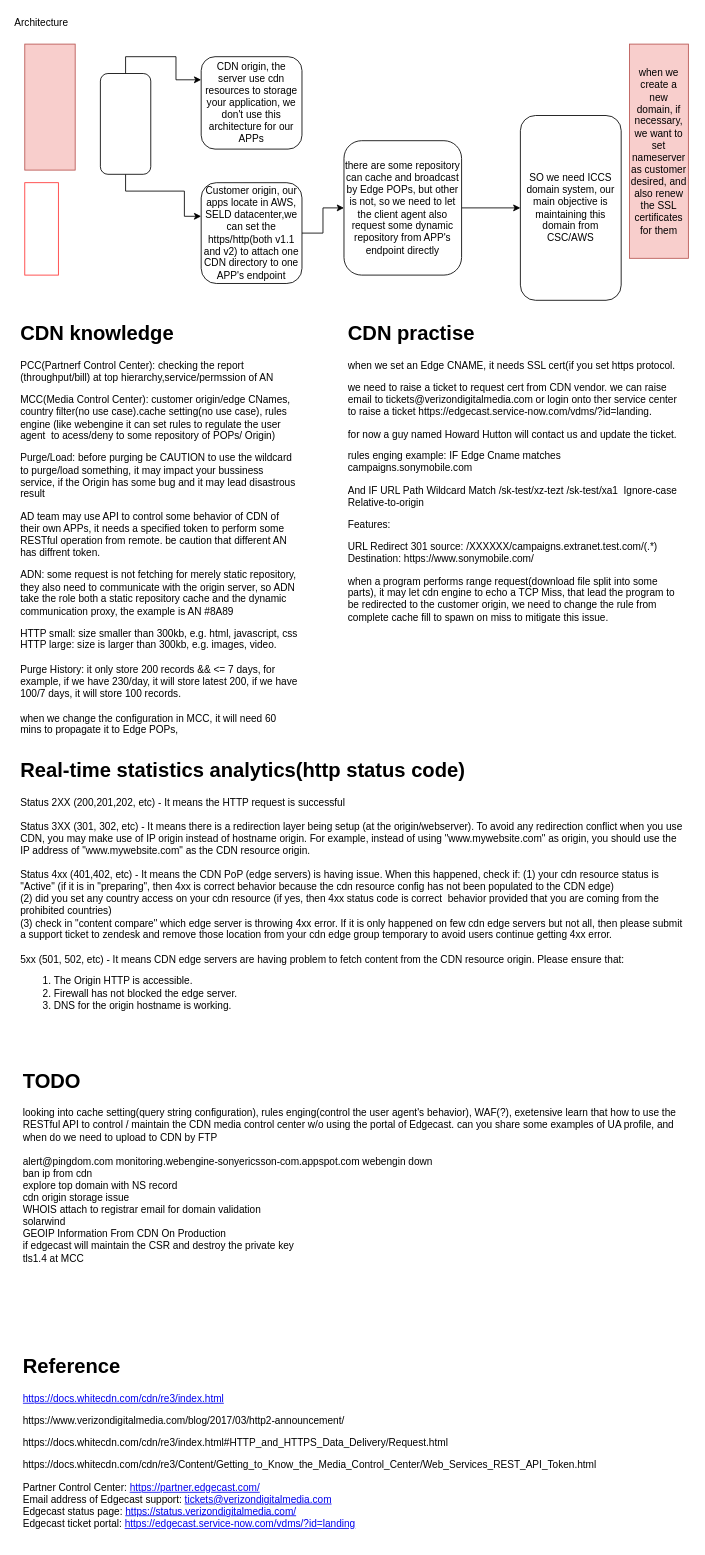
Image size: 705x1555. Some labels were removed from this diagram. Here are the shapes that lost their labels. From the top down, the centre of each, then its label:
the point at 49,106: CDN has its own DNS, and also it needs SSL certificates and CNAME for POPS
the point at 125,123: AN->Directory
the point at 41,228: CDN's cname use CDN name server
